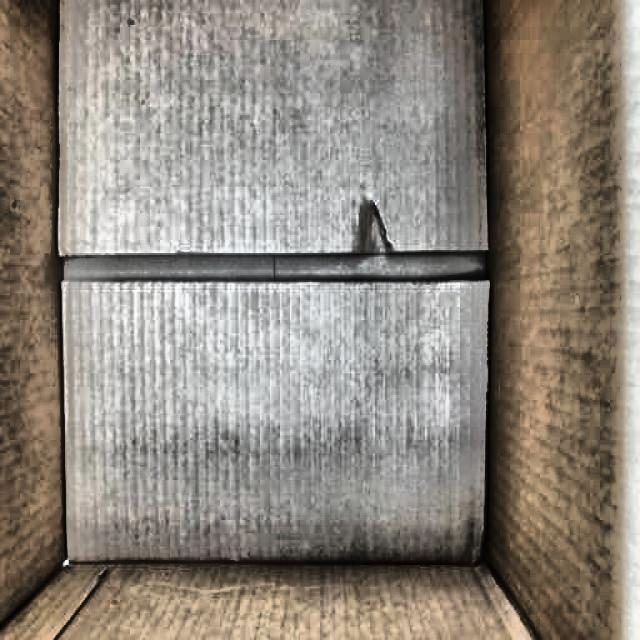cardboard: (5, 3, 636, 633)
